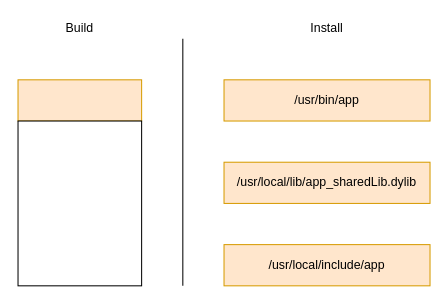
The diagram is 448 pixels wide and 305 high, and some of its shapes have lost their labels. Here are the shapes that lost their labels. From the top down, the centre of each, then its label:
At (79,100): "app/build/".
At (79,203): "app app_sharedLib.dylib configs".
